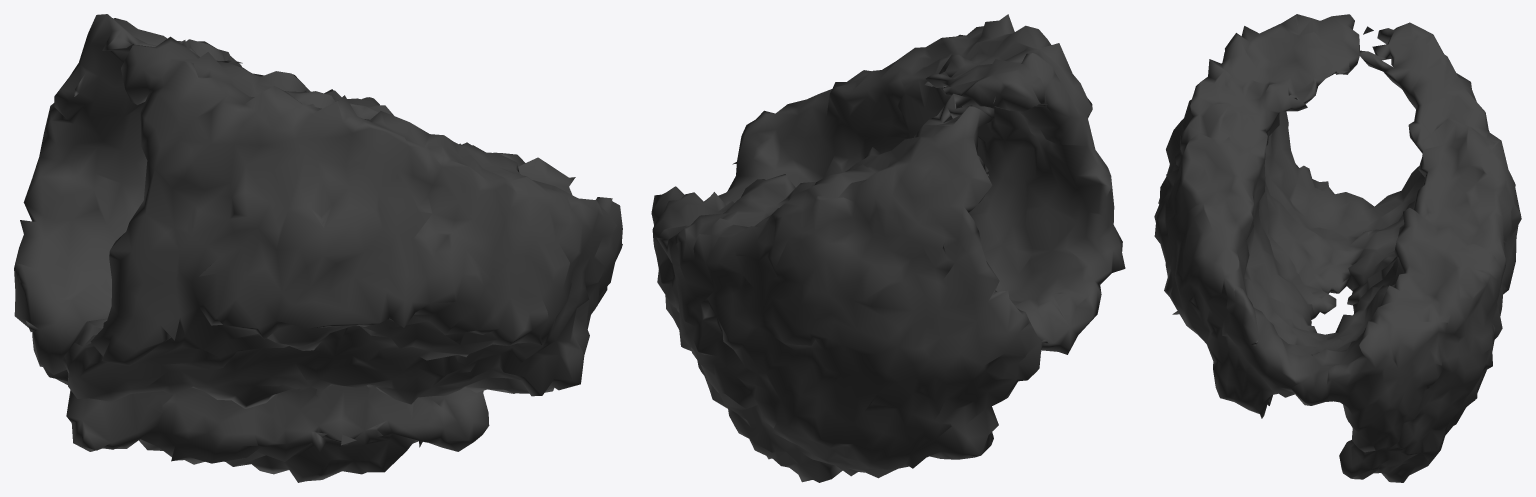
Rendered from cavern-2.glb.
The picture shows the model from 3 angles, left to right: view 1: azimuth 30°, elevation 25°; view 2: azimuth 150°, elevation 25°; view 3: azimuth 270°, elevation 25°; orthographic projection. The views are drawn at different scales.
Parts seen in each view (by area): view 1: geometry_0; view 2: geometry_0; view 3: geometry_0.
Boxes of the visible parts, x1=… form: geometry_0: x1=14, y1=14, x2=622, y2=482; geometry_0: x1=651, y1=14, x2=1125, y2=482; geometry_0: x1=1154, y1=14, x2=1521, y2=482.
Size of the model in its own units: 1.06 by 1 by 0.8695.
1 material, 1 textured.
